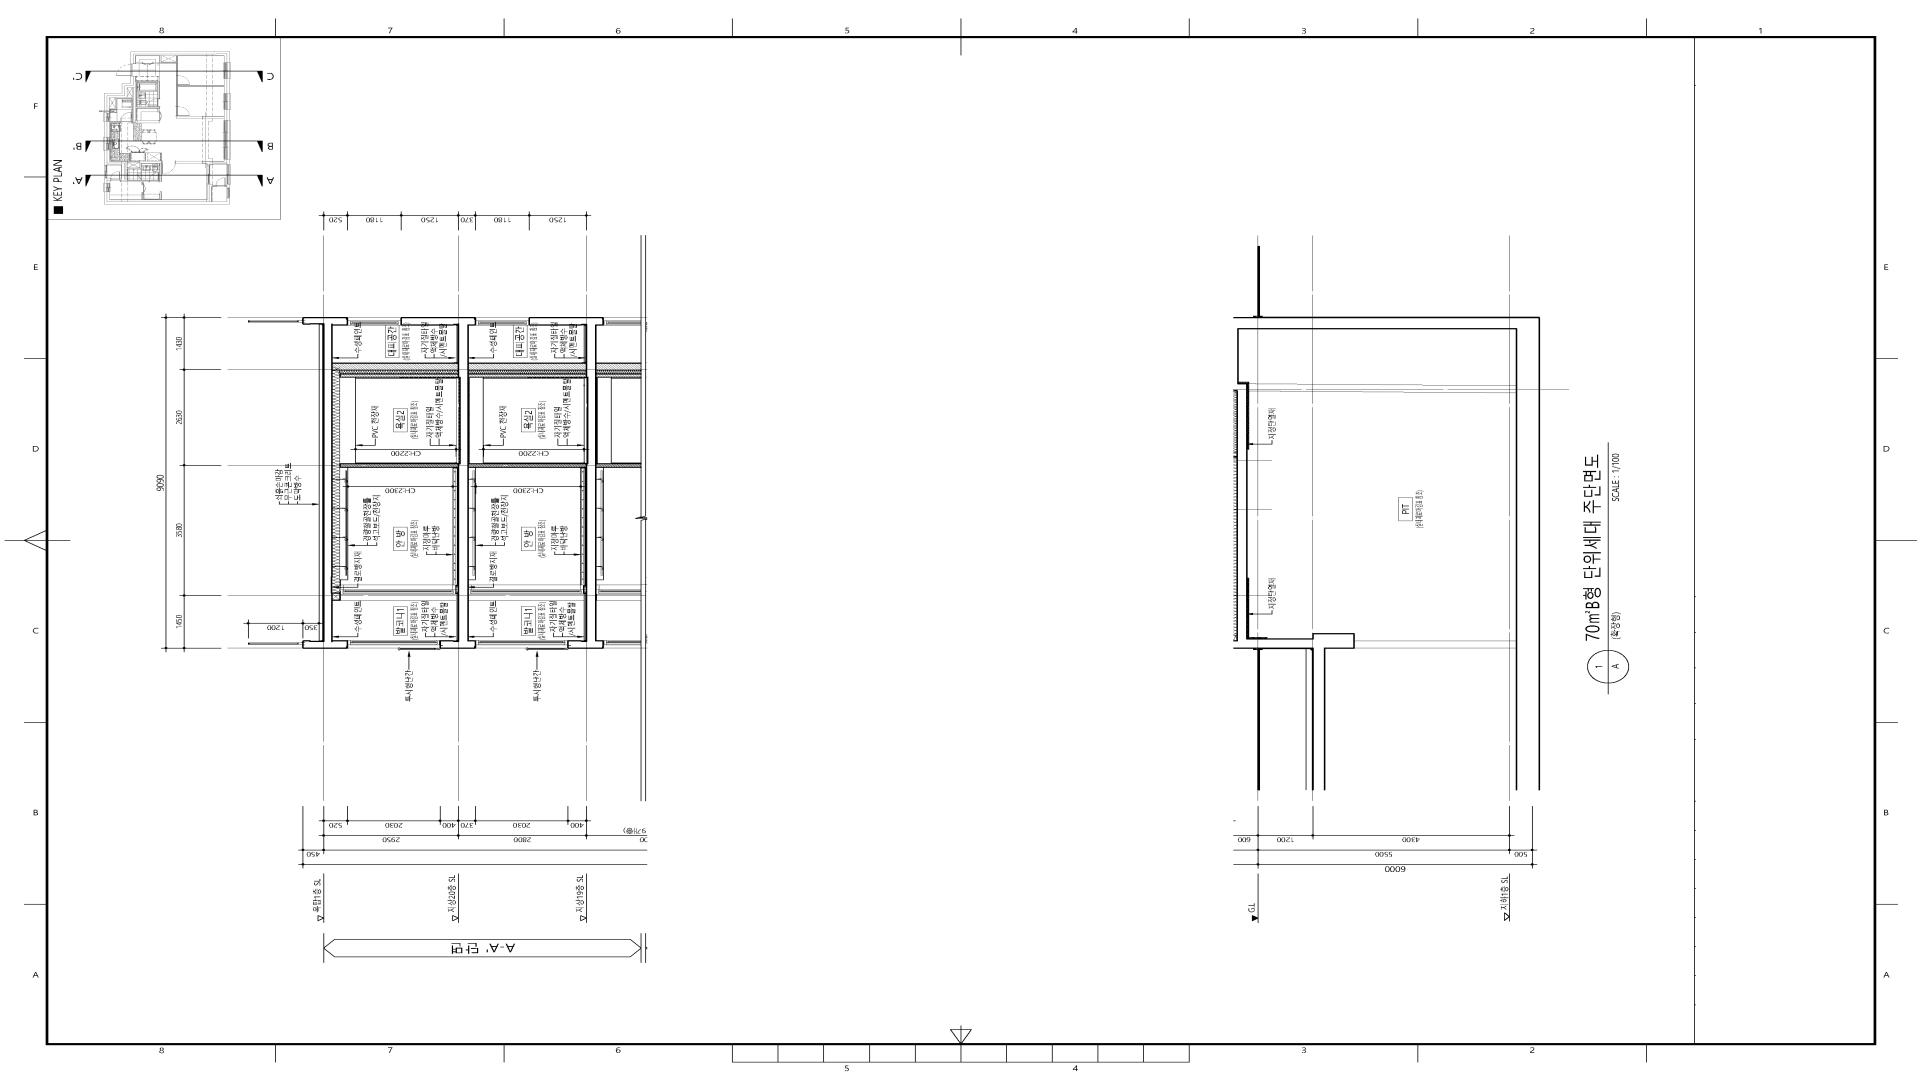wall: (1233, 316, 1540, 790), (401, 316, 476, 649), (529, 316, 604, 649), (302, 316, 348, 649), (1354, 641, 1516, 649), (332, 363, 458, 371), (468, 363, 585, 371), (340, 463, 458, 468), (469, 463, 585, 468), (339, 373, 458, 377), (468, 373, 585, 377), (455, 585, 458, 595), (583, 585, 585, 595)
window: (340, 585, 455, 595), (469, 585, 583, 595), (476, 640, 568, 649), (348, 641, 439, 649), (476, 316, 529, 326), (348, 316, 401, 326)
